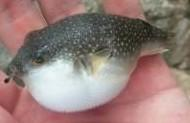fish: (7, 13, 172, 111)
